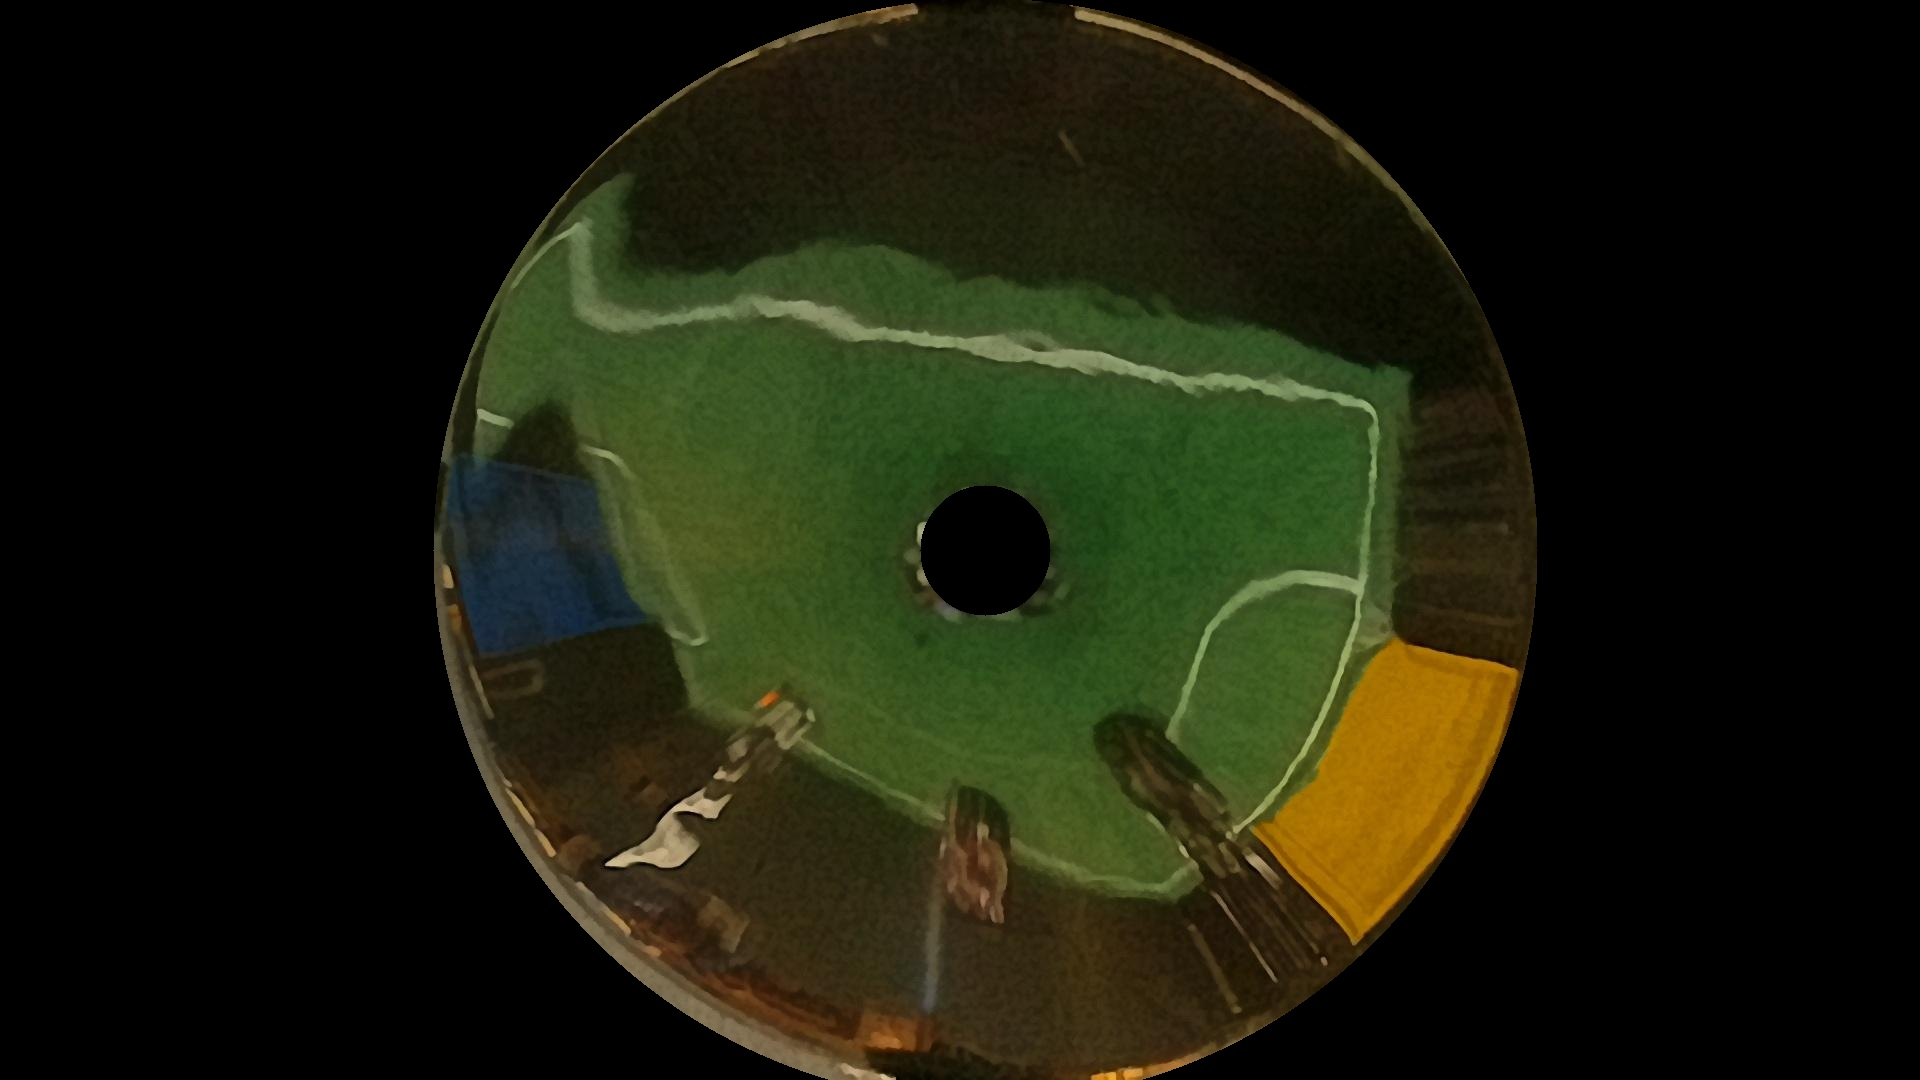ball: (758, 680, 785, 720)
blue-goal: (450, 468, 632, 644)
robots: (1083, 694, 1367, 998), (612, 686, 829, 899), (936, 778, 1025, 926)
yellow-goal: (1250, 630, 1564, 953)
